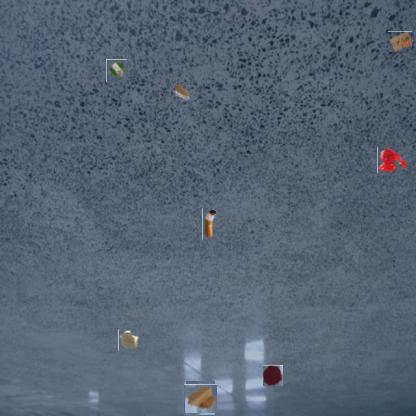dirty: (185, 383, 216, 414), (388, 31, 412, 52), (106, 59, 127, 82), (202, 209, 217, 240), (118, 329, 139, 351), (170, 82, 190, 102)
liquid: (377, 147, 408, 173), (263, 365, 283, 386)
